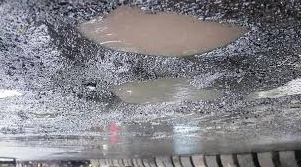pothole: (74, 4, 252, 60), (111, 74, 220, 107), (241, 84, 296, 100)
